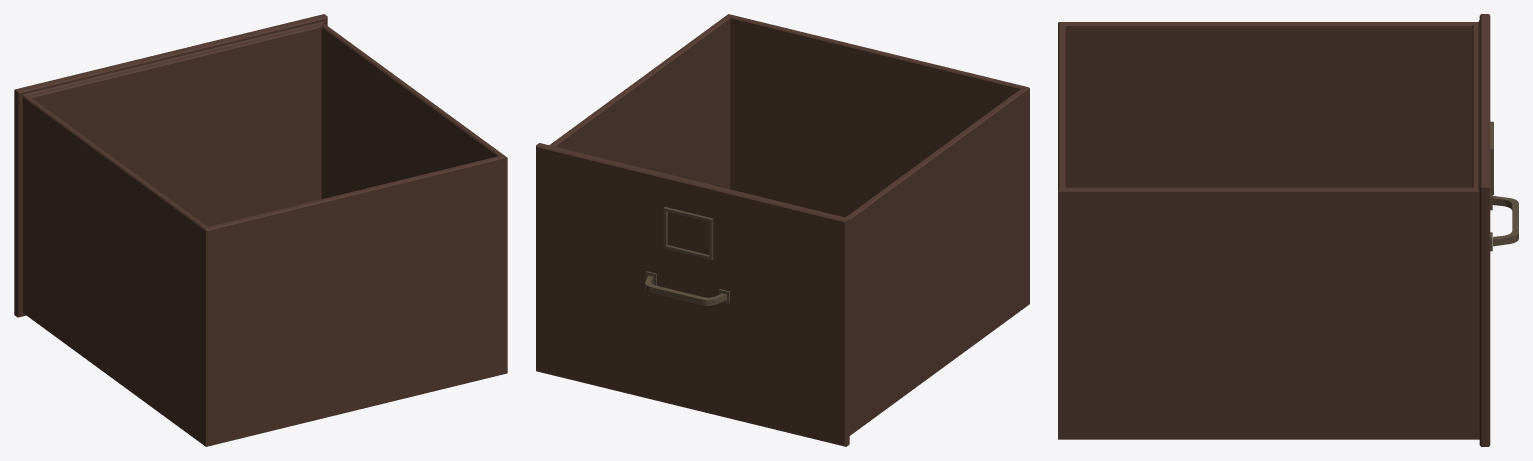
Rendered from SM_FileCabinetDrawerSmall_001.fbx.
3 renders of one model, left to right at view 1: azimuth 30°, elevation 25°; view 2: azimuth 150°, elevation 25°; view 3: azimuth 270°, elevation 25°, orthographic. The views are drawn at different scales.
Visible parts, largest first — view 1: pCube111; view 2: pCube111; view 3: pCube111.
Part boxes in pixels (x1,y1,x2,y2): pCube111: [14, 14, 507, 446]; pCube111: [536, 14, 1029, 446]; pCube111: [1058, 14, 1518, 446].
Size of the model in its own units: 64.04 by 44.54 by 71.77.
